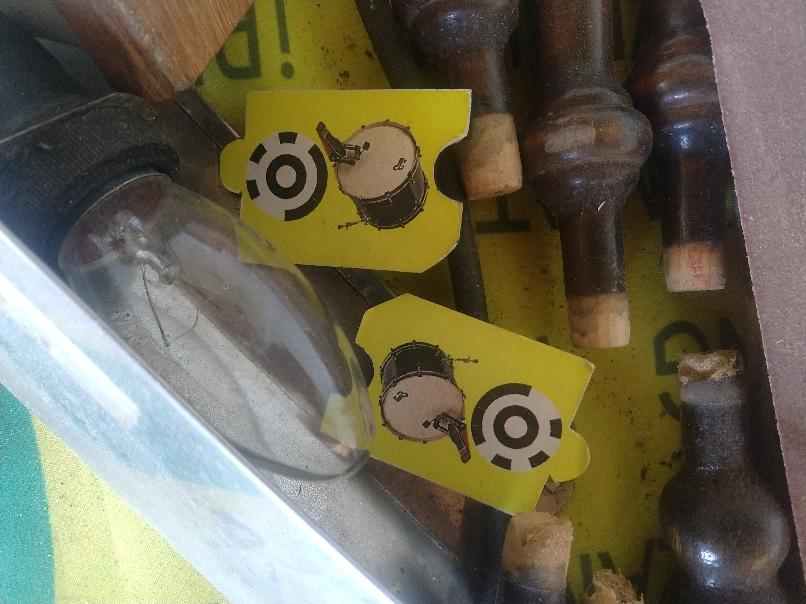bumbo: (319, 288, 594, 525), (218, 83, 473, 278)
